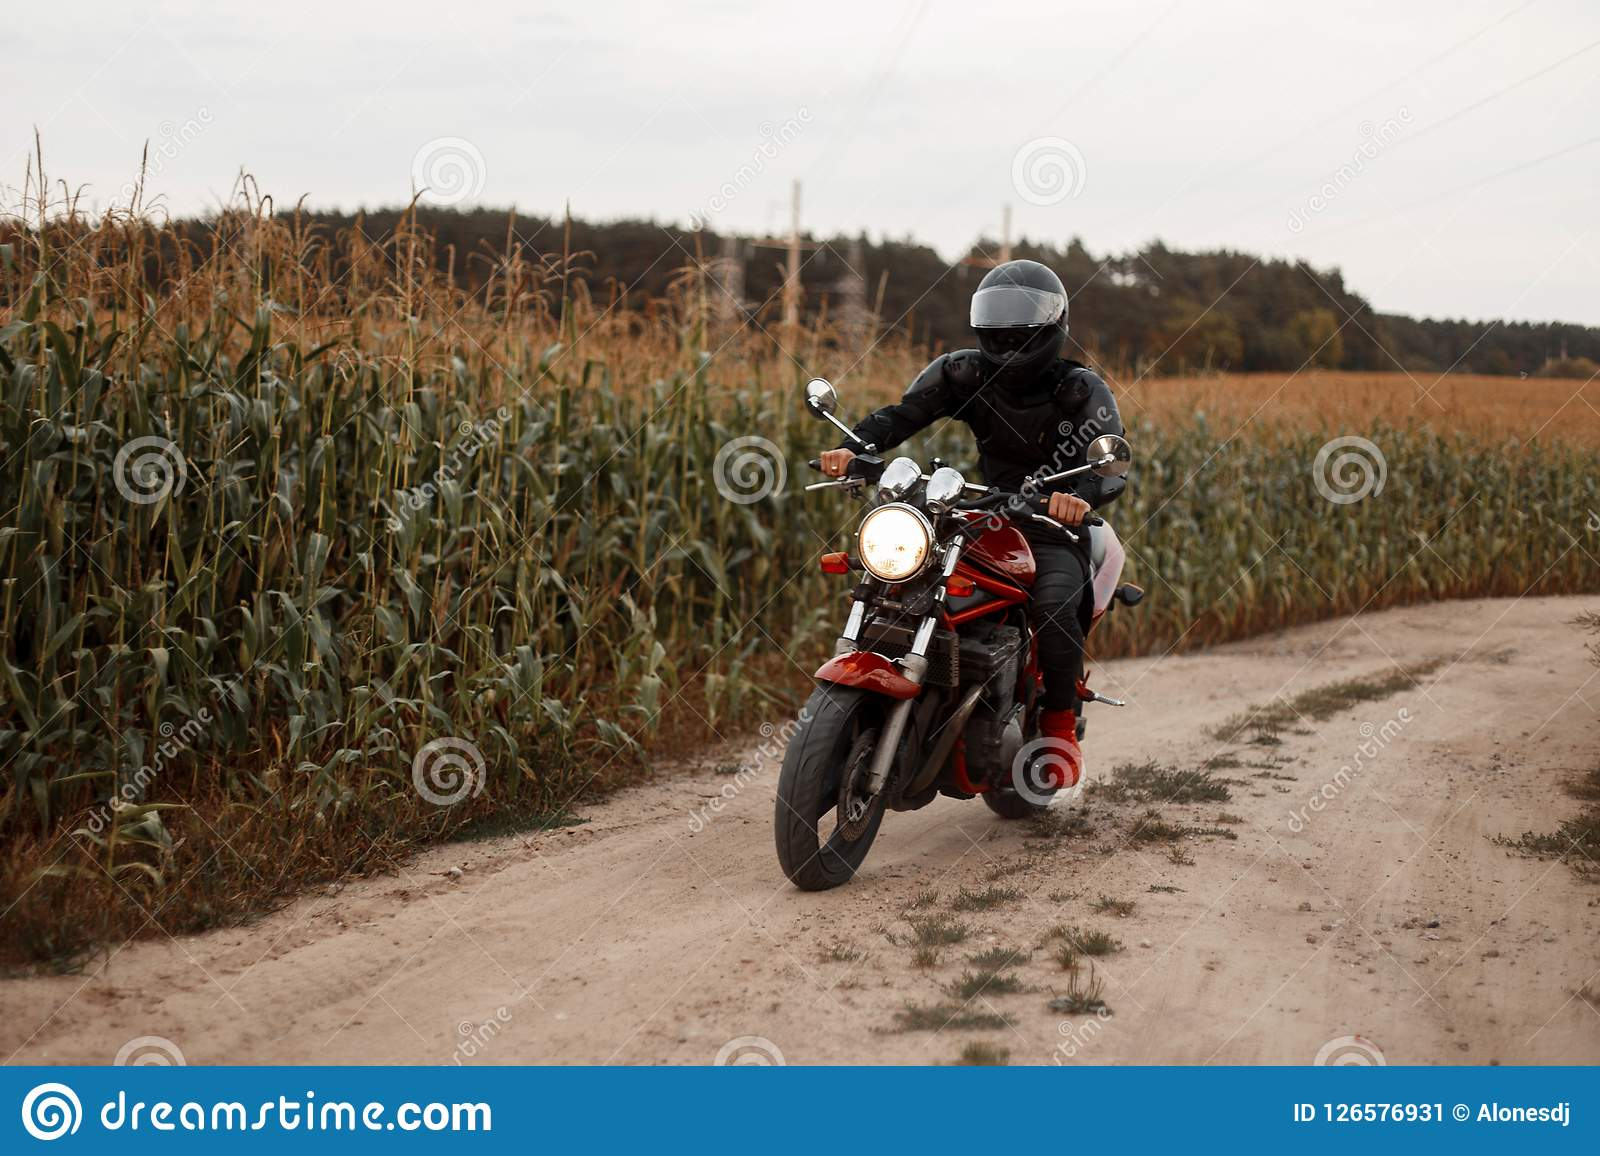helmet: (971, 264, 1084, 387)
